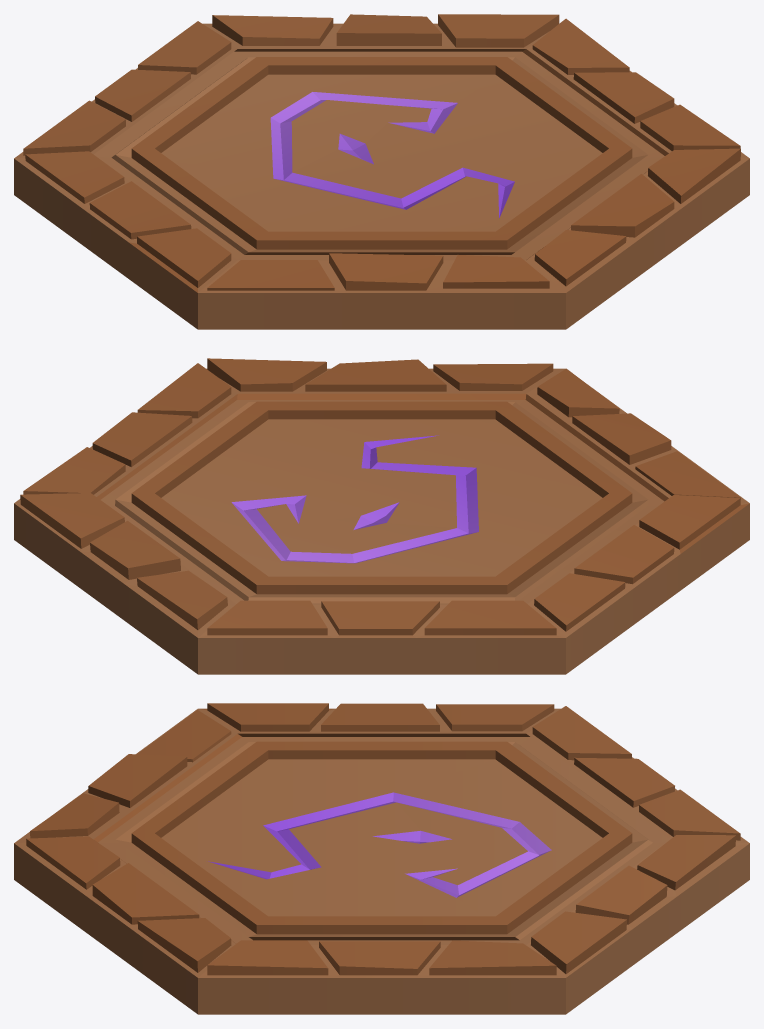
File: inscriptedrock01.fbx
3 renders of one model, top to bottom at view 1: azimuth 30°, elevation 25°; view 2: azimuth 150°, elevation 25°; view 3: azimuth 270°, elevation 25°, orthographic.
Parts seen in each view (by area): view 1: İnsciptedRock01; view 2: İnsciptedRock01; view 3: İnsciptedRock01.
Part boxes in pixels (x1=…): İnsciptedRock01: x1=14, y1=14, x2=749, y2=329; İnsciptedRock01: x1=14, y1=358, x2=749, y2=674; İnsciptedRock01: x1=14, y1=703, x2=749, y2=1014.
Bounding box in the file's own units: 254 × 23.44 × 294.
